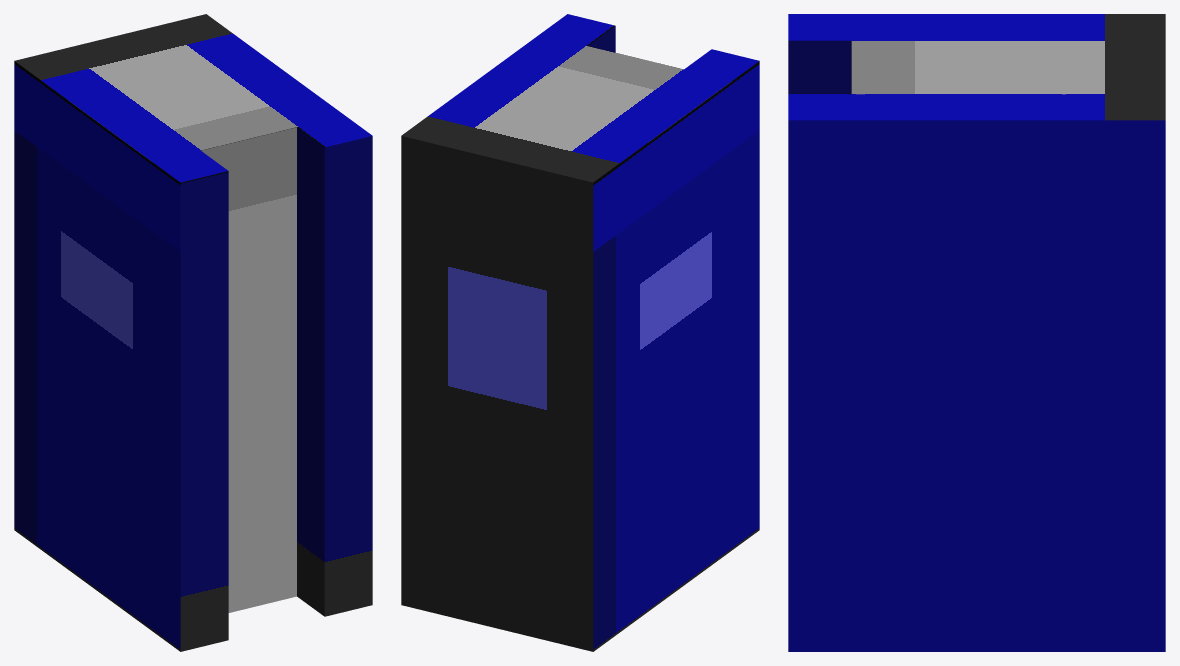
File: book_0x282_17.glb
The picture shows the model from 3 angles, left to right: view 1: azimuth 30°, elevation 25°; view 2: azimuth 150°, elevation 25°; view 3: azimuth 270°, elevation 25°; orthographic projection. The views are drawn at different scales.
Visible parts, largest first — view 1: Cube.001; view 2: Cube.001; view 3: Cube.001.
Boxes of the visible parts, box(x1,y1,x2,y2) form: Cube.001: box(14, 14, 372, 651); Cube.001: box(401, 14, 759, 651); Cube.001: box(788, 14, 1165, 651).
Bounding box in the file's own units: 0.25 × 0.5833 × 0.375.
1 material, 1 textured.
